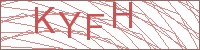F: (85, 13, 105, 41)
H: (111, 1, 134, 29)
K: (33, 6, 55, 34)
Y: (57, 11, 81, 39)
